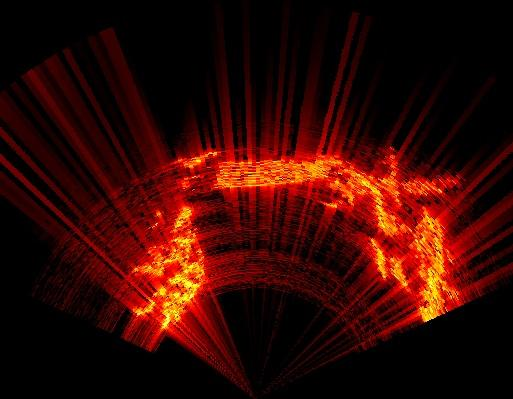shipwreck: (214, 157, 457, 321), (132, 205, 205, 329), (181, 152, 219, 189)
